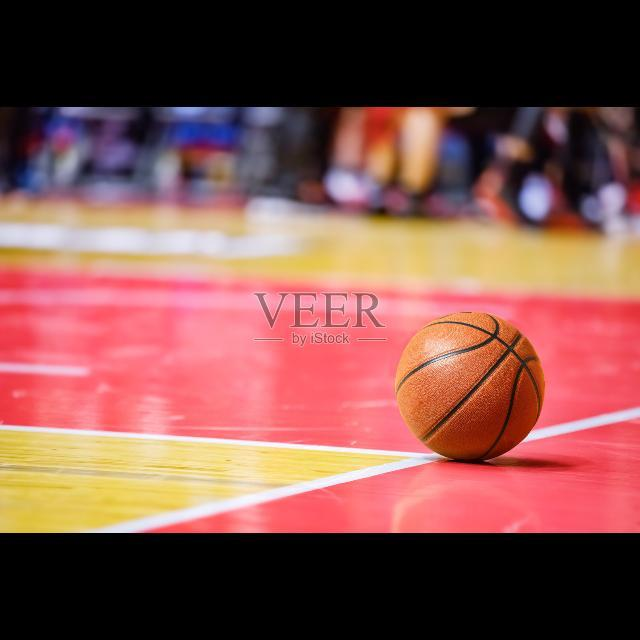basketball: (396, 311, 544, 461)
